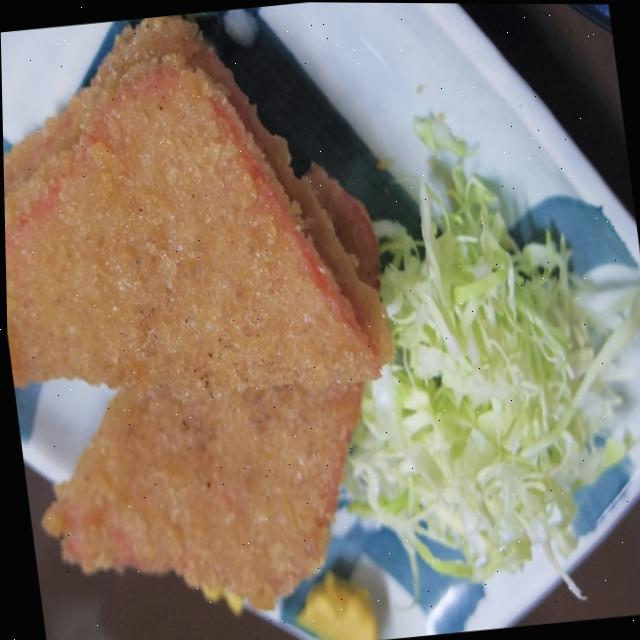炸货点心: (0, 0, 450, 640)
